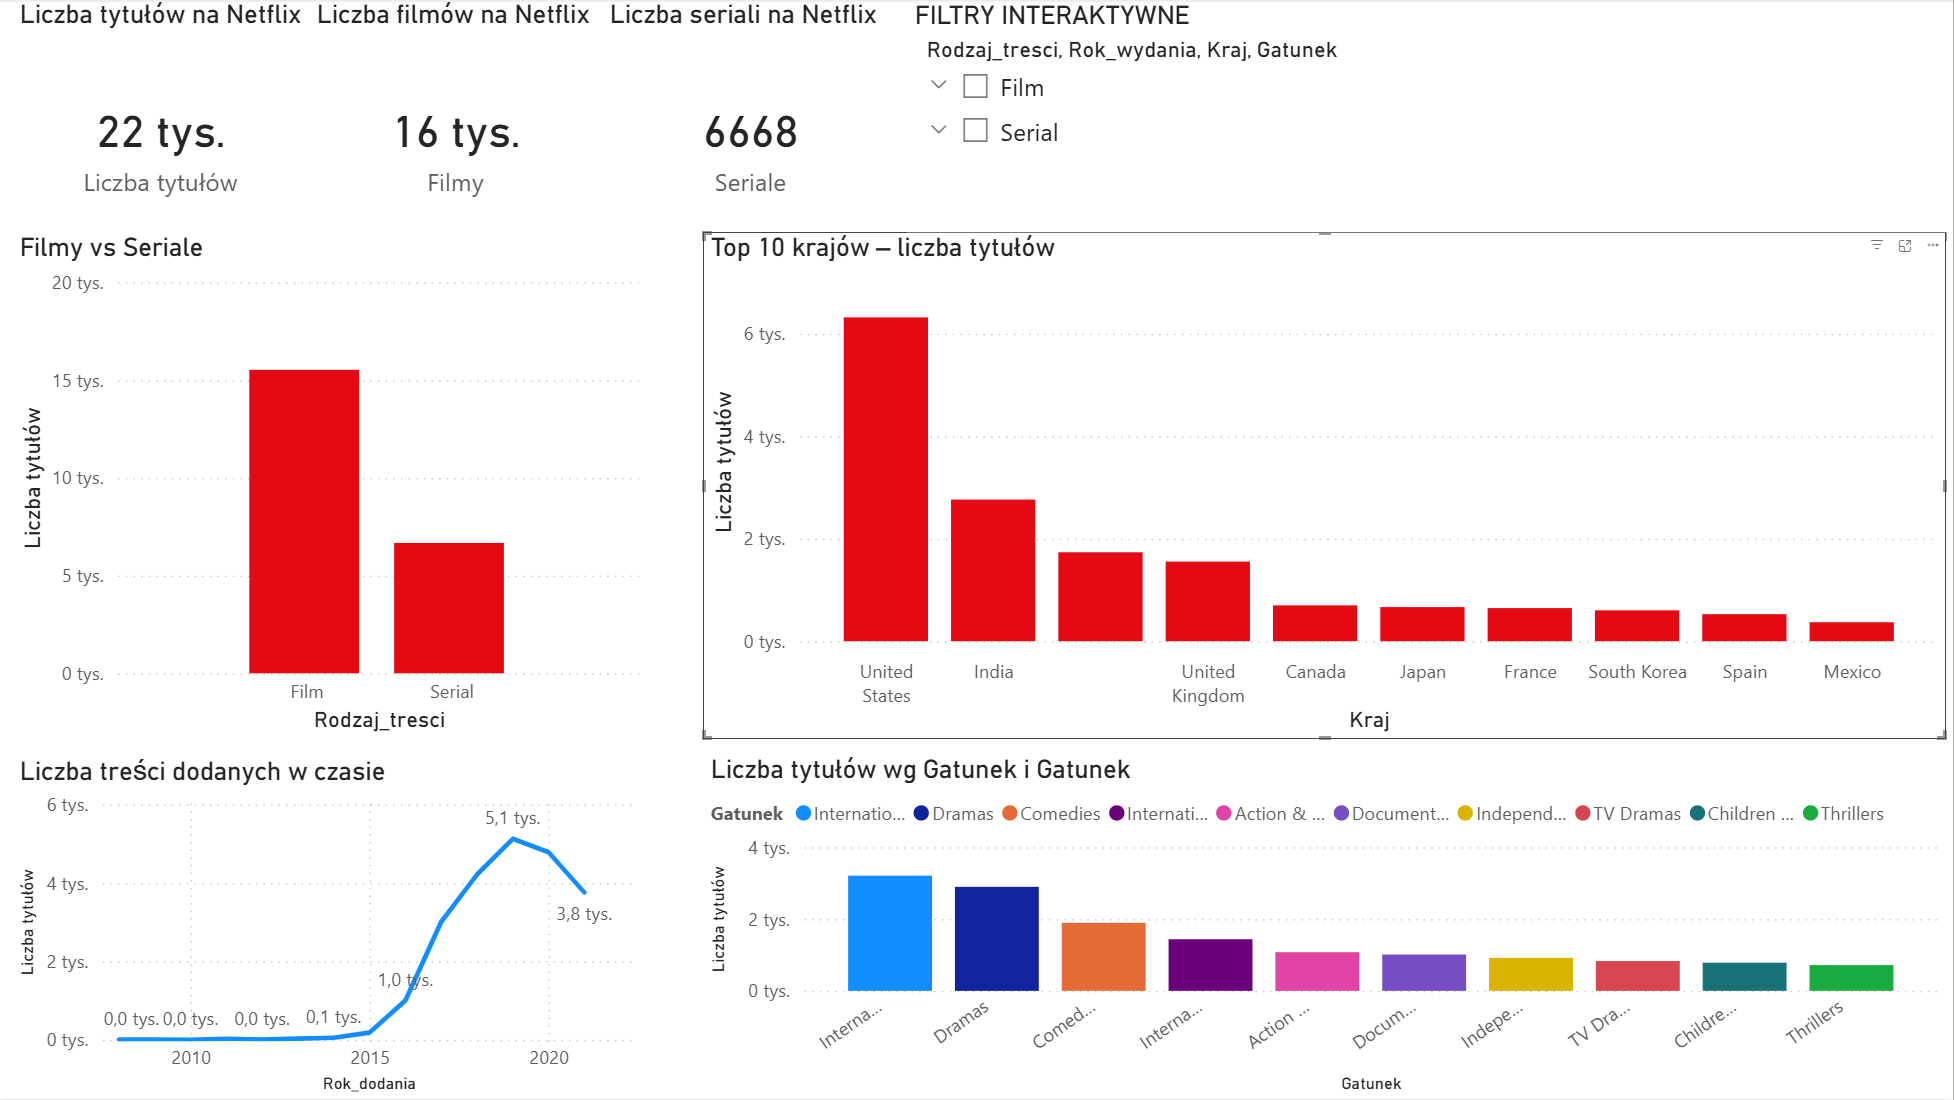

The page's visual inventory and layout, read from the dashboard file:
{"tool":"powerbi","page":{"name":"Strona 1","canvas":[1280,720],"ordinal":0},"visuals":[{"type":"card","title":"Liczba tytułów na Netflix","fields":{"Values":["netflix_titles.Liczba tytułów"]},"box":[9.8,0,194.4,171.5],"z":0},{"type":"card","title":"Liczba filmów na Netflix","fields":{"Values":["netflix_titles.Filmy"]},"box":[204.2,0,191.7,171.5],"z":1},{"type":"card","title":"Liczba seriali na Netflix","fields":{"Values":["netflix_titles.Seriale"]},"box":[395.9,0,194.4,171.5],"z":2},{"type":"columnChart","title":"Filmy vs Seriale","fields":{"Category":["netflix_titles.Rodzaj_tresci"],"Y":["netflix_titles.Liczba tytułów"]},"box":[9.8,152.5,416.2,331.8],"z":3},{"type":"columnChart","title":"Top 10 krajów – liczba tytułów","fields":{"Category":["netflix_titles.Kraj"],"Y":["netflix_titles.Liczba tytułów"]},"box":[462,152.5,813.4,331.8],"z":4},{"type":"lineChart","title":"Liczba treści dodanych w czasie","fields":{"Category":["netflix_titles.Rok_dodania"],"Y":["netflix_titles.Liczba tytułów"]},"box":[10,494,416,226],"z":5},{"type":"columnChart","fields":{"Category":["netflix_titles.Gatunek"],"Y":["netflix_titles.Liczba tytułów"],"Series":["netflix_titles.Gatunek"]},"box":[462,494,813,226],"z":6},{"type":"slicer","title":"FILTRY INTERAKTYWNE","fields":{"Values":["netflix_titles.Rodzaj_tresci","netflix_titles.Rok_wydania","netflix_titles.Kraj","netflix_titles.Gatunek"]},"box":[595.5,0.7,684.5,151.8],"z":7}]}

Visuals, with their boxes in screenshot pixels (x1, y1, x2, y2), scaled from the page's 1280x720 canvas onto the 1954x1100 screenshot:
"Liczba tytułów na Netflix" card: box(15, 0, 312, 262)
"Liczba filmów na Netflix" card: box(312, 0, 604, 262)
"Liczba seriali na Netflix" card: box(604, 0, 901, 262)
"Filmy vs Seriale" columnChart: box(15, 233, 650, 740)
"Top 10 krajów – liczba tytułów" columnChart: box(705, 233, 1947, 740)
"Liczba treści dodanych w czasie" lineChart: box(15, 755, 650, 1099)
columnChart - netflix_titles.Gatunek x netflix_titles.Liczba tytułów: box(705, 755, 1946, 1099)
"FILTRY INTERAKTYWNE" slicer: box(909, 1, 1953, 233)
